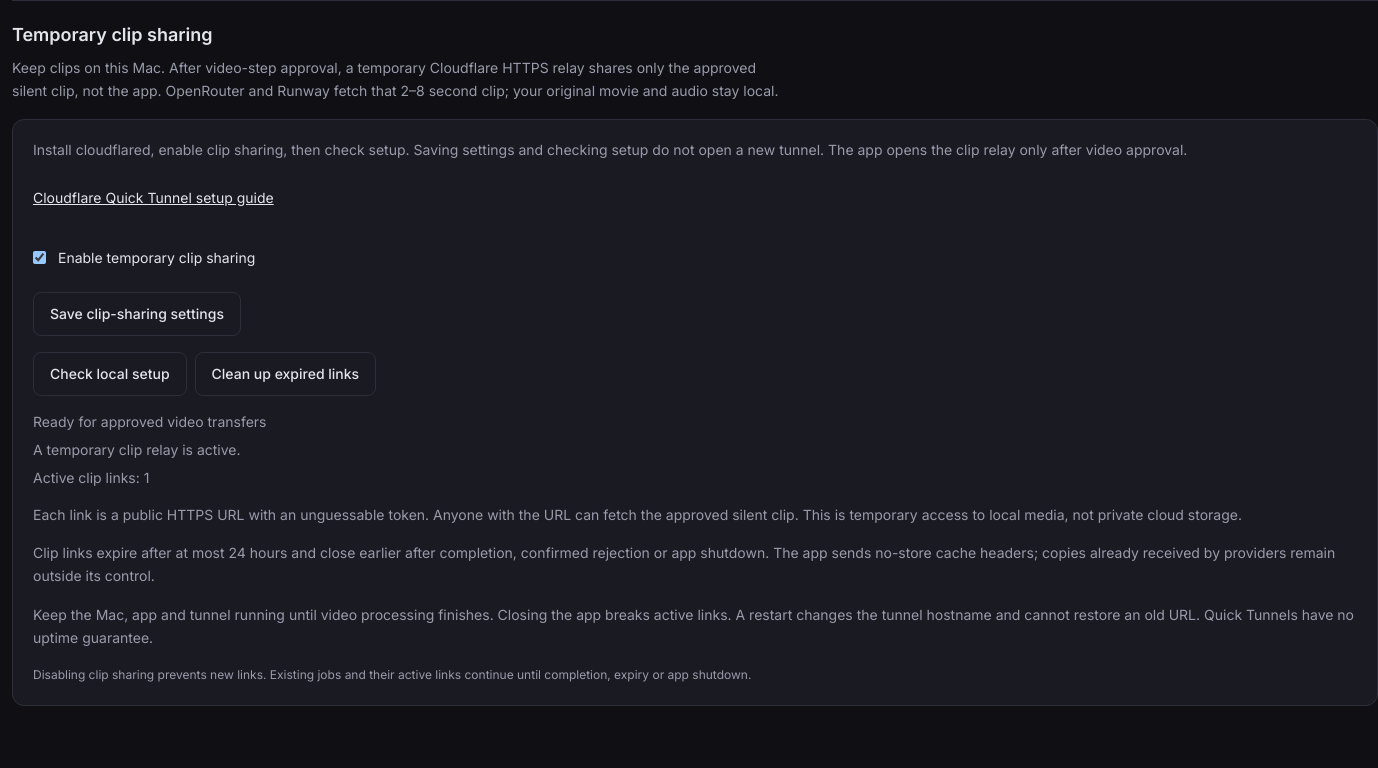
cleans up expired grants only on an explicit request
The image size is (1378, 768).
Click the button "Clean up expired links": (285,374) [195,352,376,396]
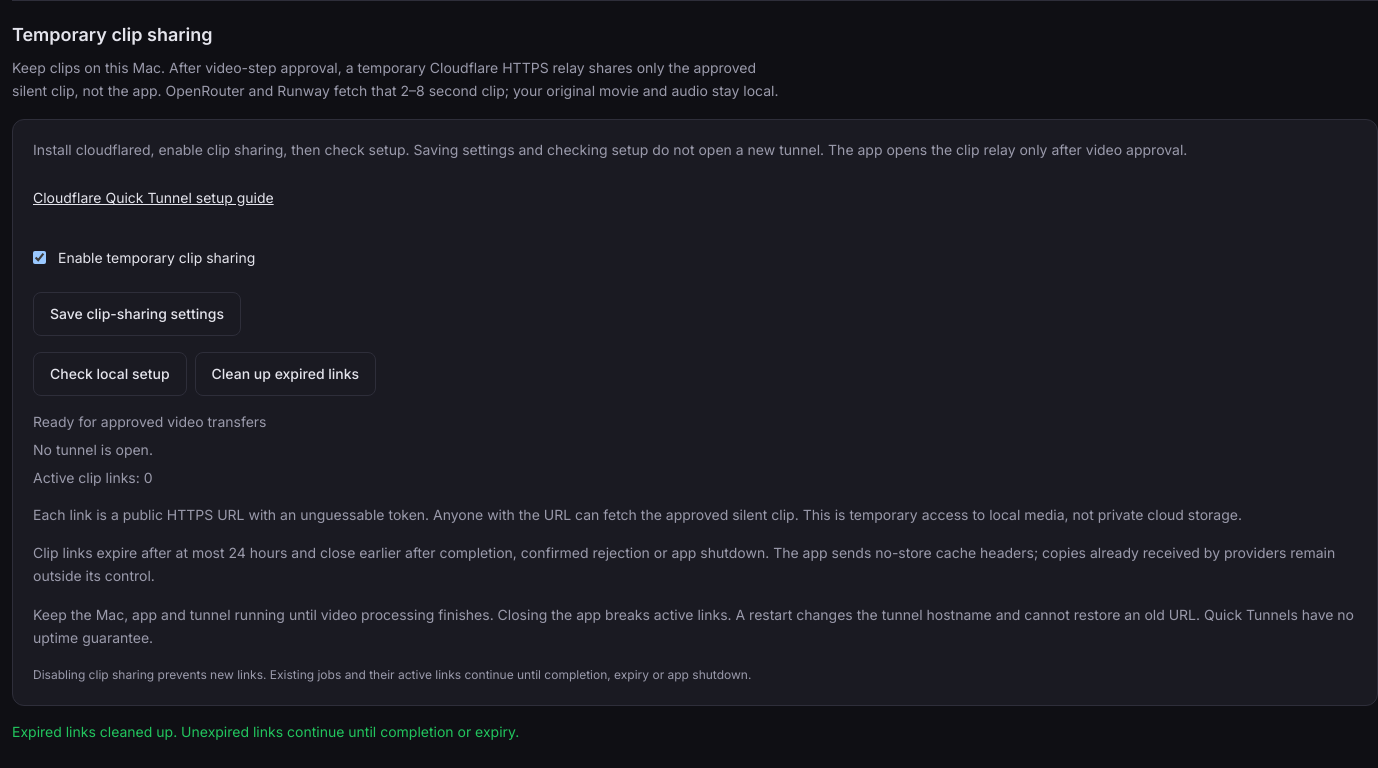
Result: the text "Expired links cleaned up" is shown at [12,723,519,740]
